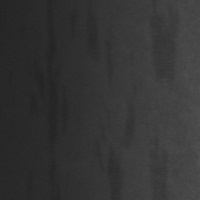inclusion: (28, 1, 69, 195), (94, 93, 138, 199), (147, 1, 182, 81), (146, 121, 174, 200), (78, 1, 104, 64), (101, 38, 118, 92)
